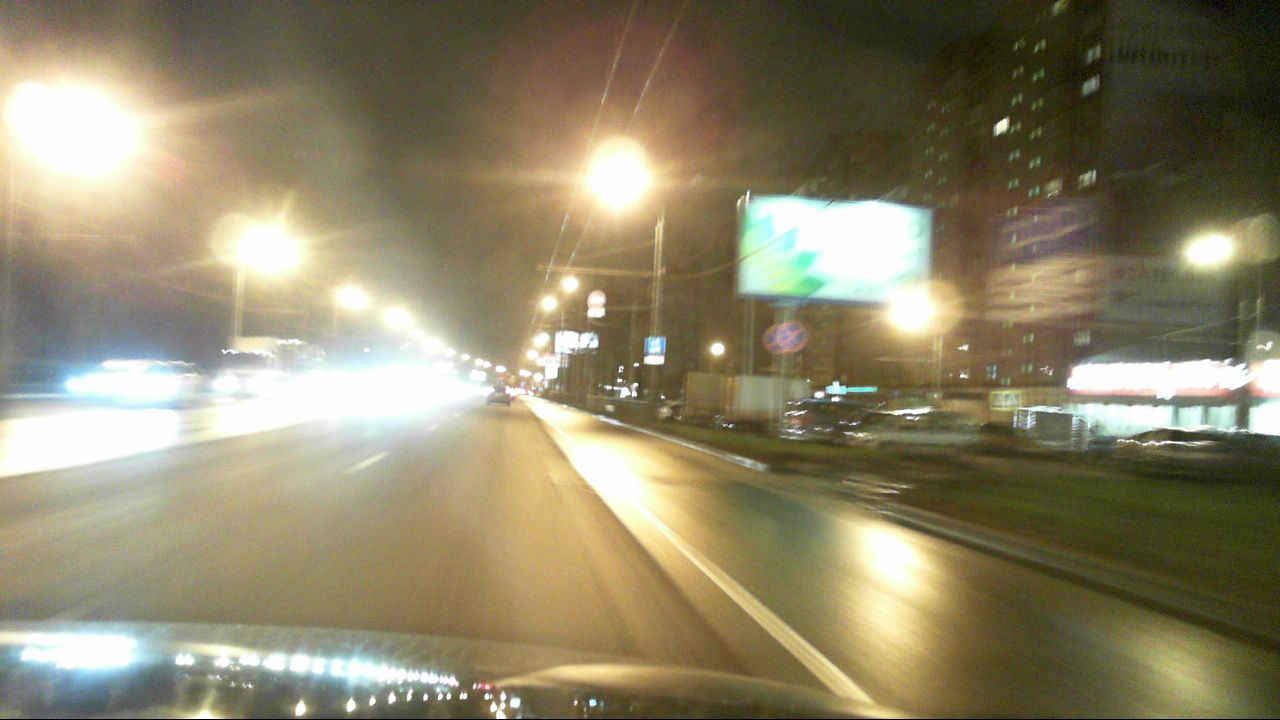No Parking: (775, 322, 807, 353)
